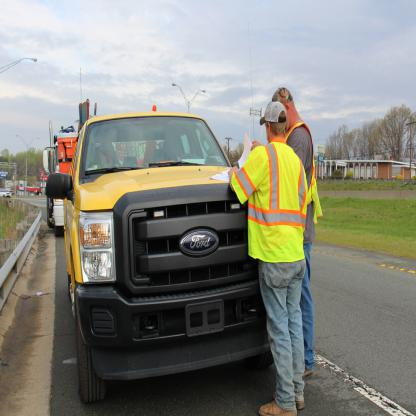Car: (46, 105, 274, 403), (0, 188, 7, 198)
Truck: (46, 106, 274, 404), (46, 99, 97, 238)
